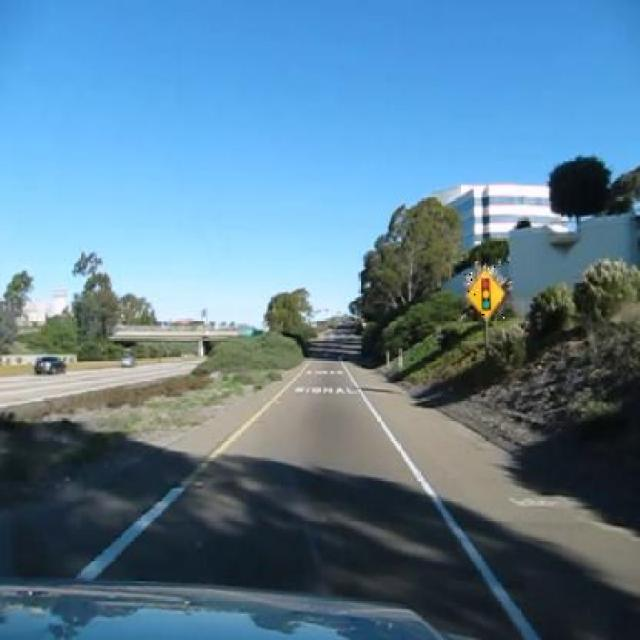signalAhead: (463, 266, 506, 320)
